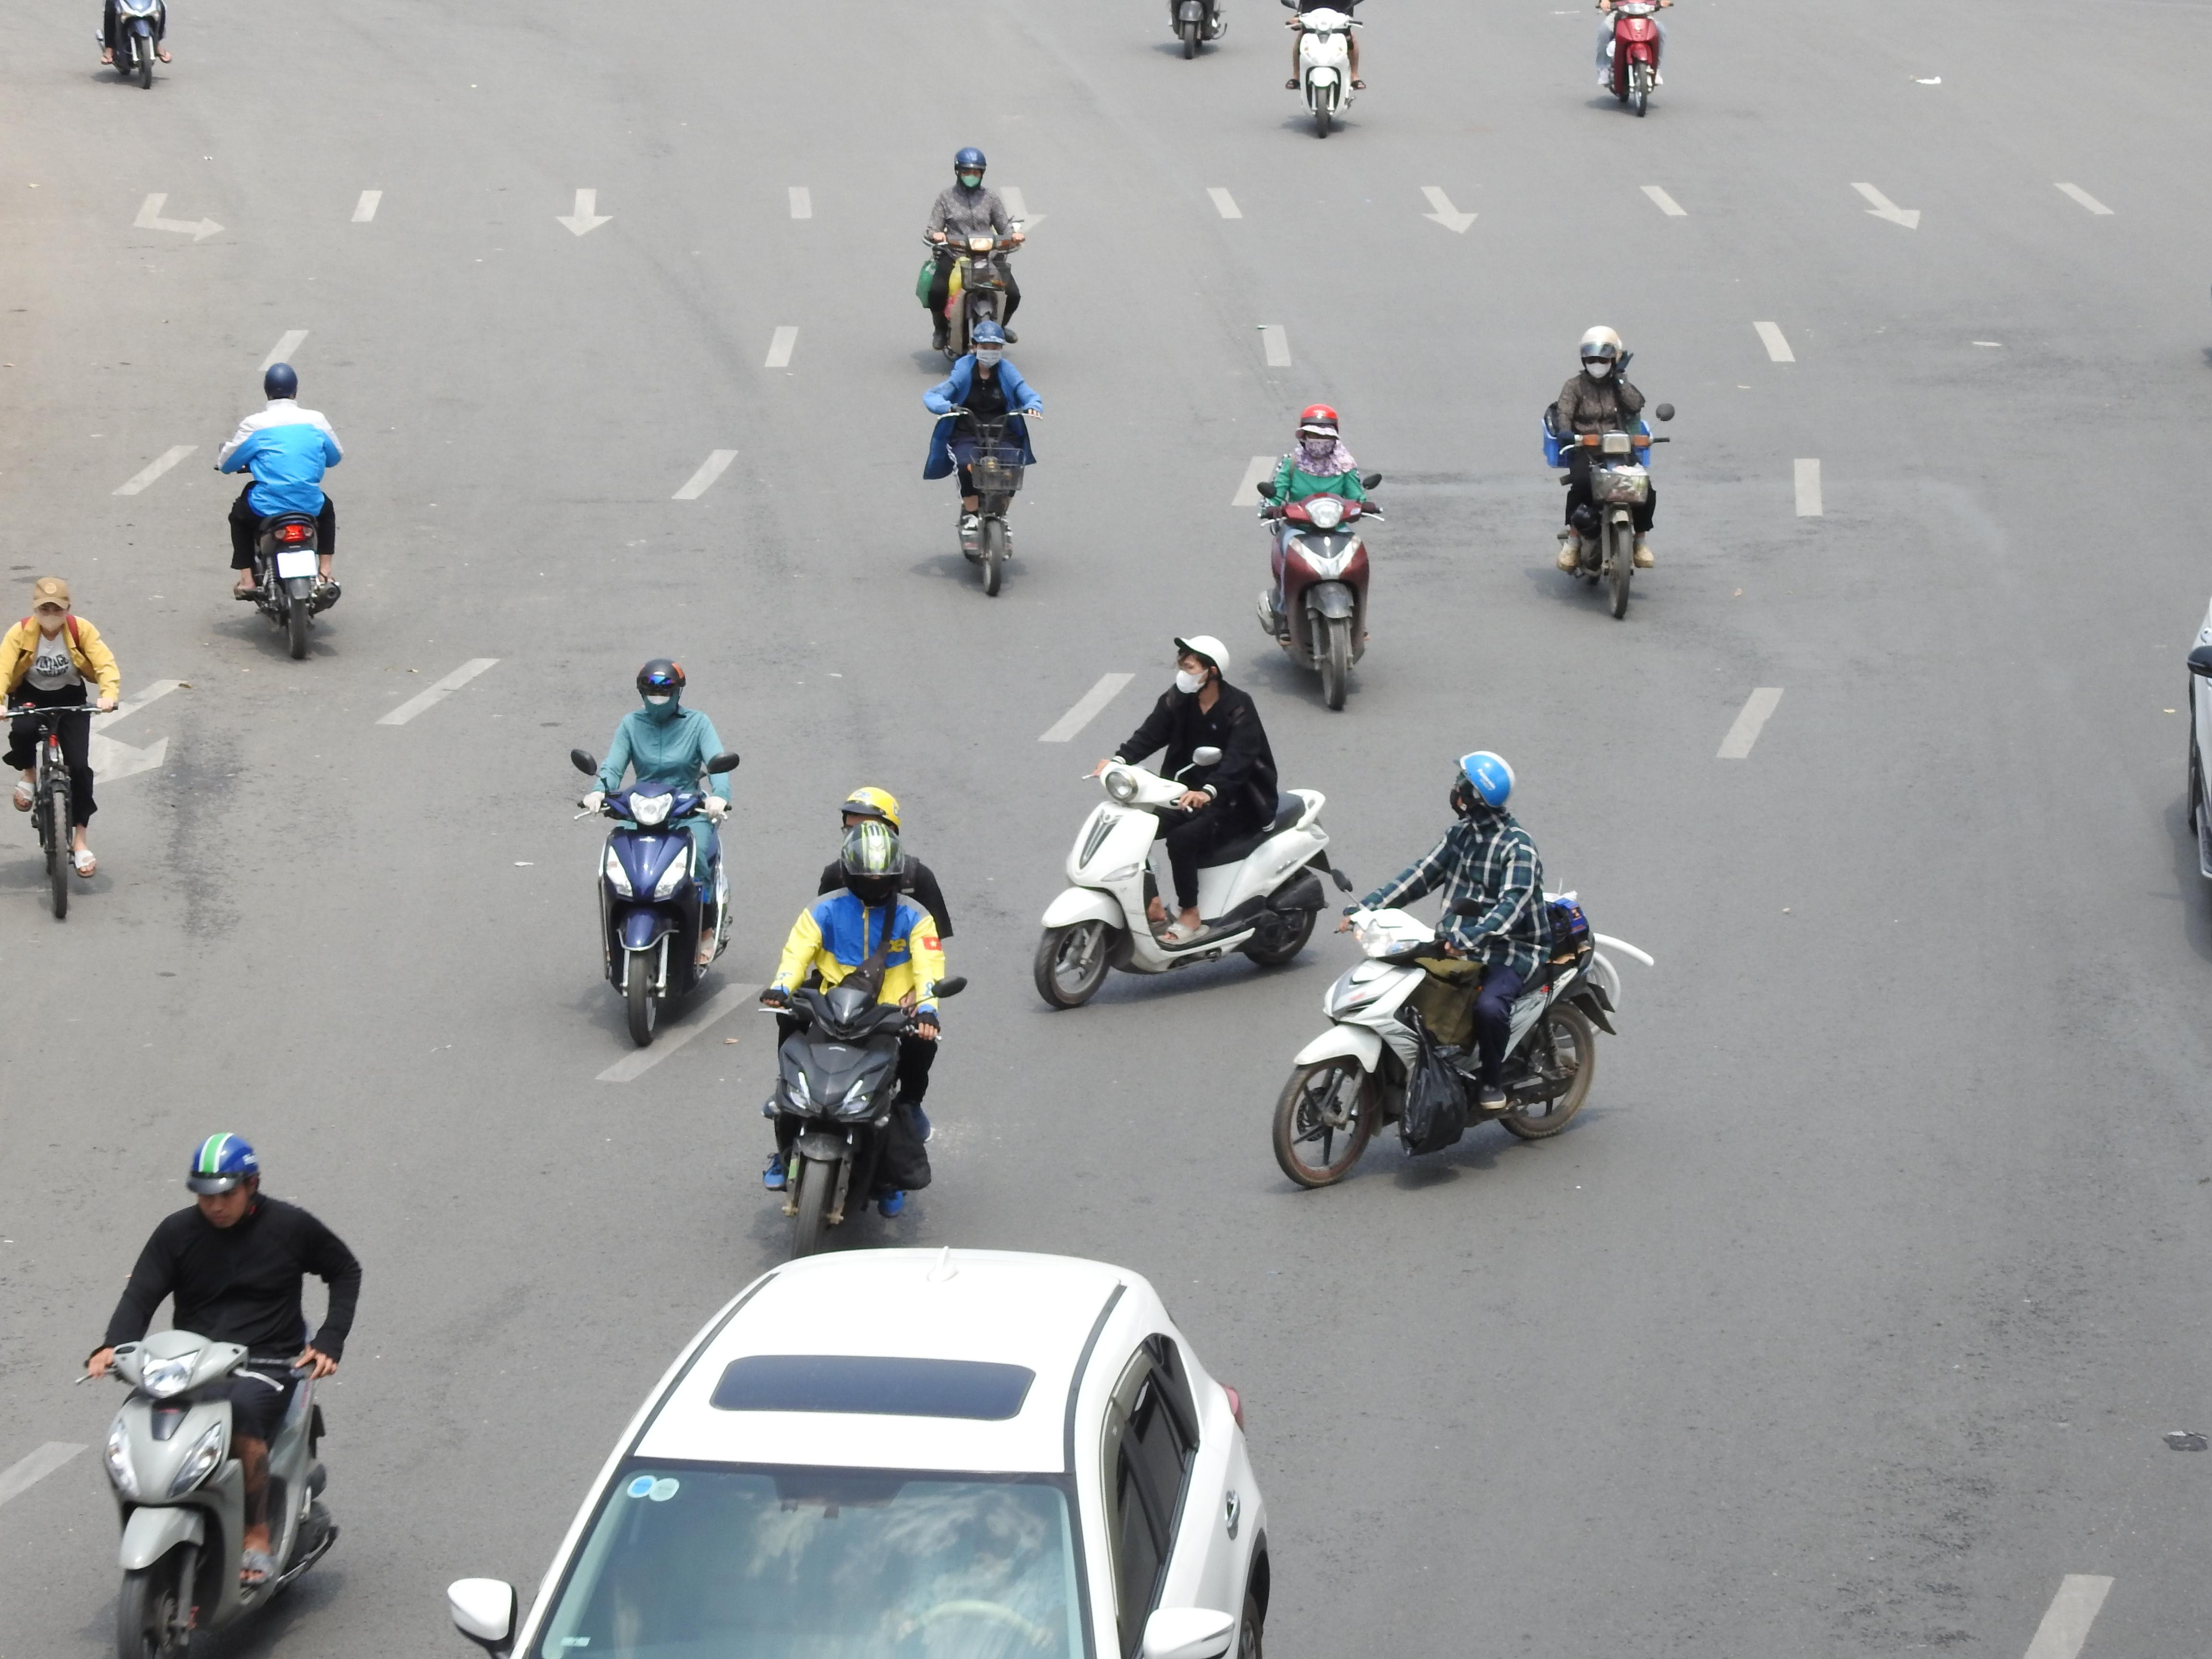BSV: (277, 551, 319, 579)
car: (442, 1243, 1277, 1659)
motorbike: (1271, 751, 1618, 1188), (80, 1133, 357, 1659), (1033, 633, 1346, 1011), (758, 786, 961, 1260), (573, 657, 740, 1049), (0, 573, 118, 922), (1256, 403, 1383, 713), (219, 359, 343, 662), (1547, 324, 1670, 620), (927, 312, 1040, 598), (918, 146, 1026, 362), (1282, 0, 1364, 138), (1595, 0, 1670, 117), (94, 0, 174, 91)
